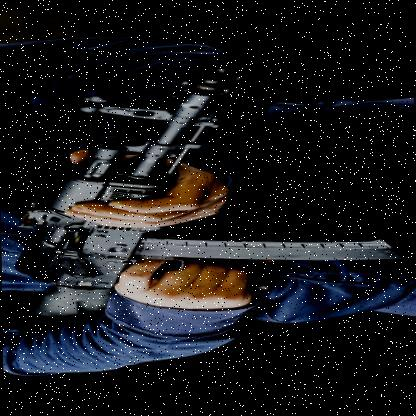rifle: (16, 65, 391, 332)
